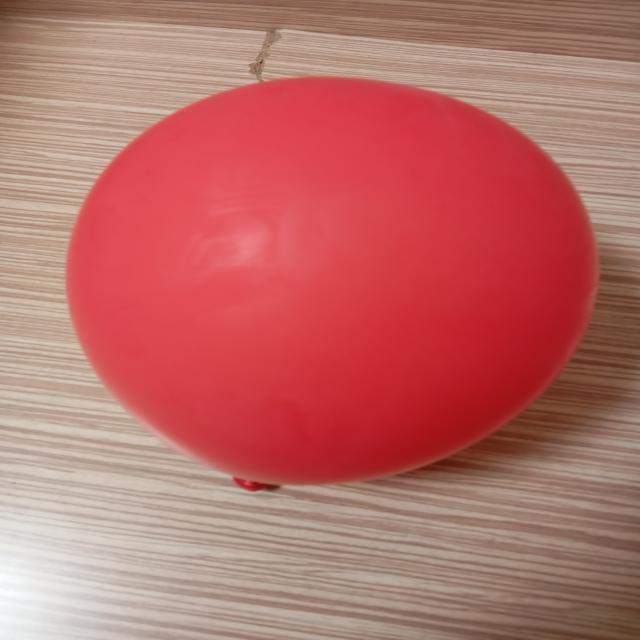balloon: (67, 77, 598, 485)
